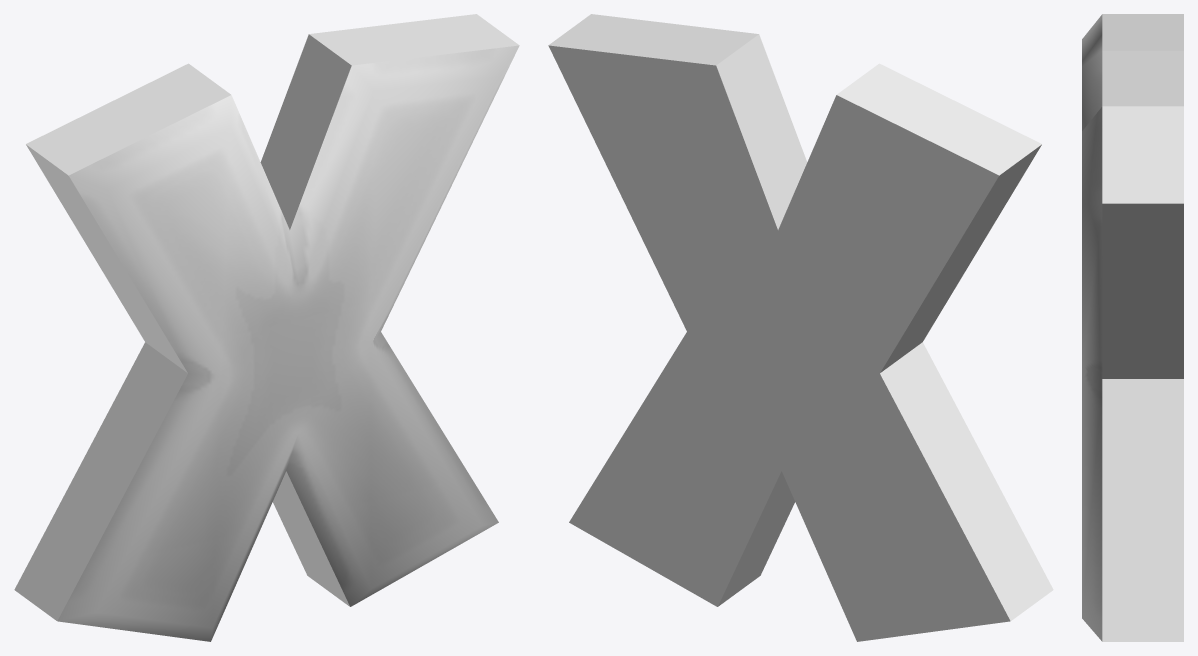
File: LettersStylized01_X.FBX
3 views of the same model, side by side, from view 1: azimuth 30°, elevation 25°; view 2: azimuth 150°, elevation 25°; view 3: azimuth 270°, elevation 25° (orthographic). The views are drawn at different scales.
Parts seen in each view (by area): view 1: LettersStylized01_X; view 2: LettersStylized01_X; view 3: LettersStylized01_X.
Boxes of the visible parts, left/top/right/bottom form: LettersStylized01_X: left=14, top=14, right=519, bottom=641; LettersStylized01_X: left=548, top=14, right=1053, bottom=641; LettersStylized01_X: left=1082, top=14, right=1183, bottom=641.
Size of what is drawn, in the model's own units: 0.4227 by 0.4734 by 0.085.
